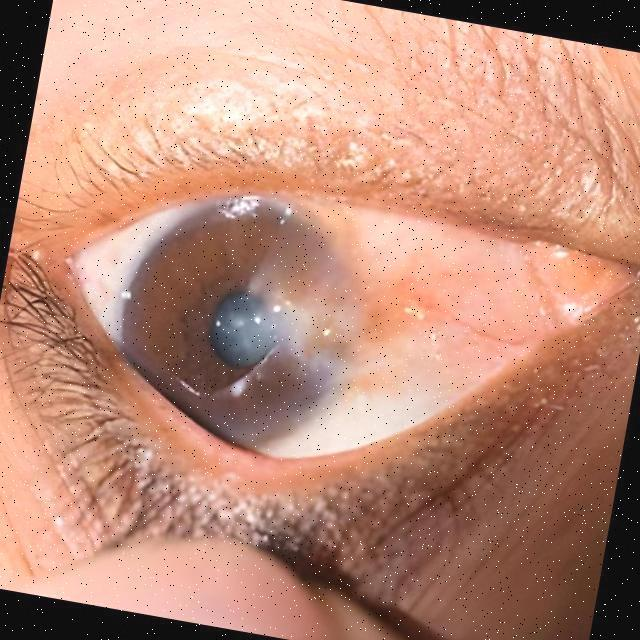Pterygium: (275, 204, 540, 408)
